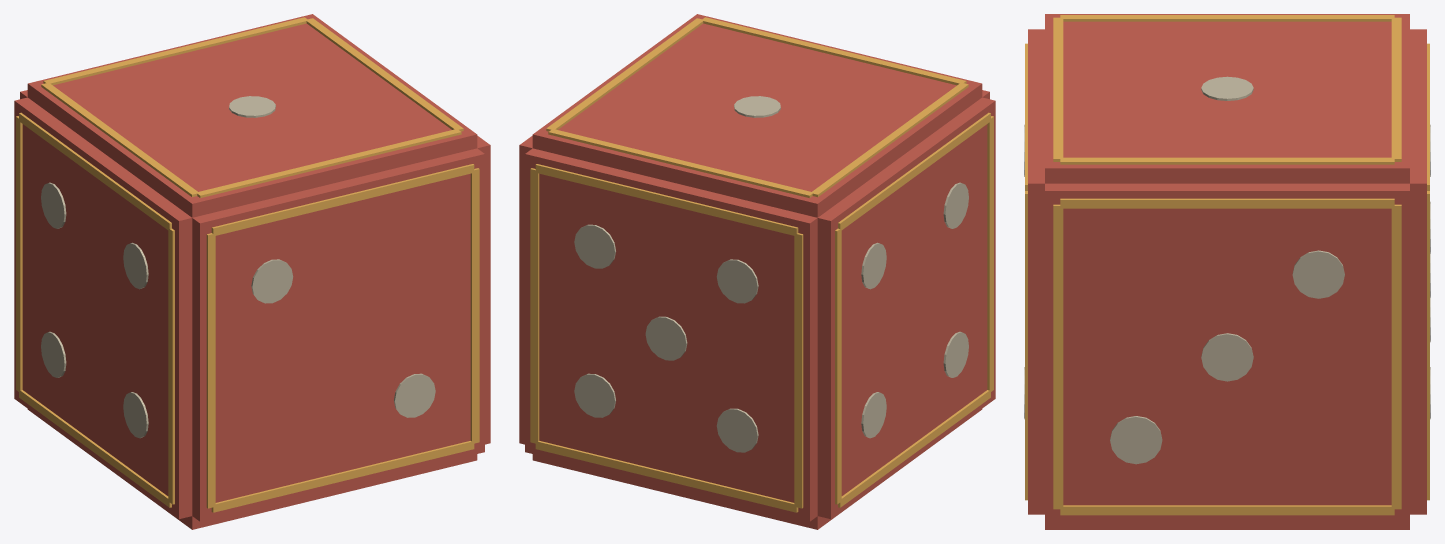
File: space_die_coral.glb
The picture shows the model from 3 angles, left to right: view 1: azimuth 30°, elevation 25°; view 2: azimuth 150°, elevation 25°; view 3: azimuth 270°, elevation 25°; orthographic projection. The views are drawn at different scales.
Parts seen in each view (by area): view 1: FixedDetails, BrassTrim; view 2: FixedDetails, BrassTrim; view 3: FixedDetails, BrassTrim.
Boxes of the visible parts, x1,y1,x2,y2 form: FixedDetails: (14,14,490,529); BrassTrim: (16,17,479,512); FixedDetails: (519,14,995,529); BrassTrim: (530,17,993,512); FixedDetails: (1024,14,1430,529); BrassTrim: (1025,15,1429,515).
Bounding box in the file's own units: 0.668 × 0.668 × 0.668.
